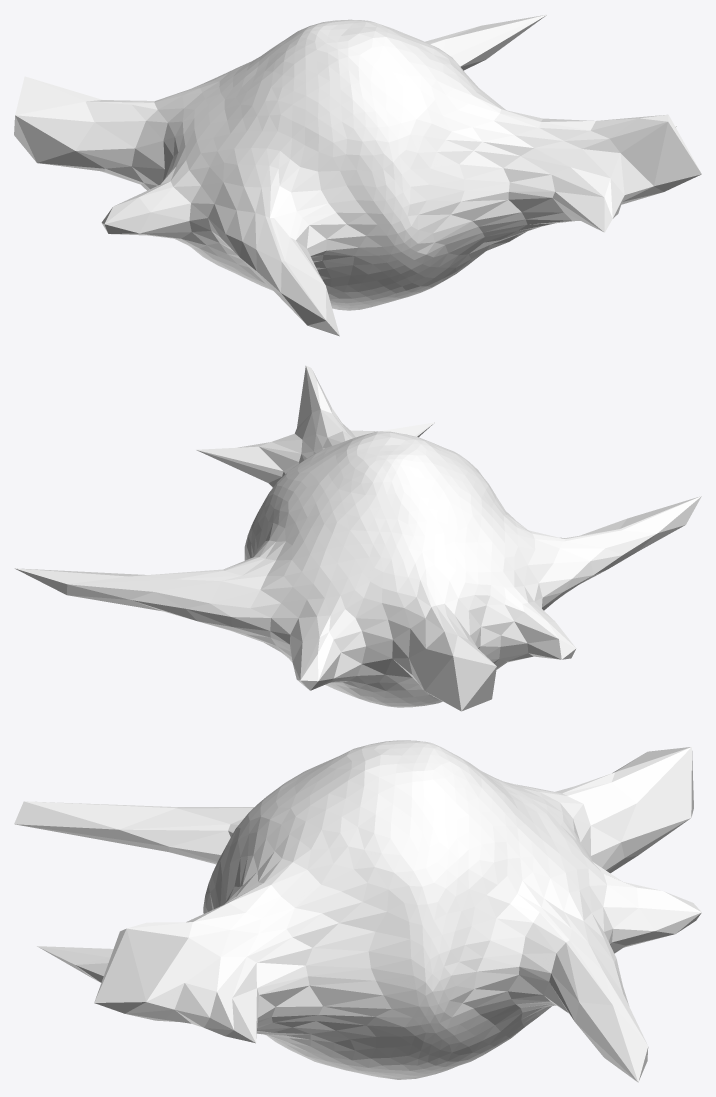
The model's file is plane_rotZ45[0.3,0.0,0.3]s1[-1.7,0.0,-1.7]_00080.obj.
3 views of the same model, one above another, from view 1: azimuth 30°, elevation 25°; view 2: azimuth 150°, elevation 25°; view 3: azimuth 270°, elevation 25° (orthographic). The views are drawn at different scales.
Size of the model in its own units: 1.2 by 0.5785 by 1.15.
Materials: 1 (1 with a texture image).
